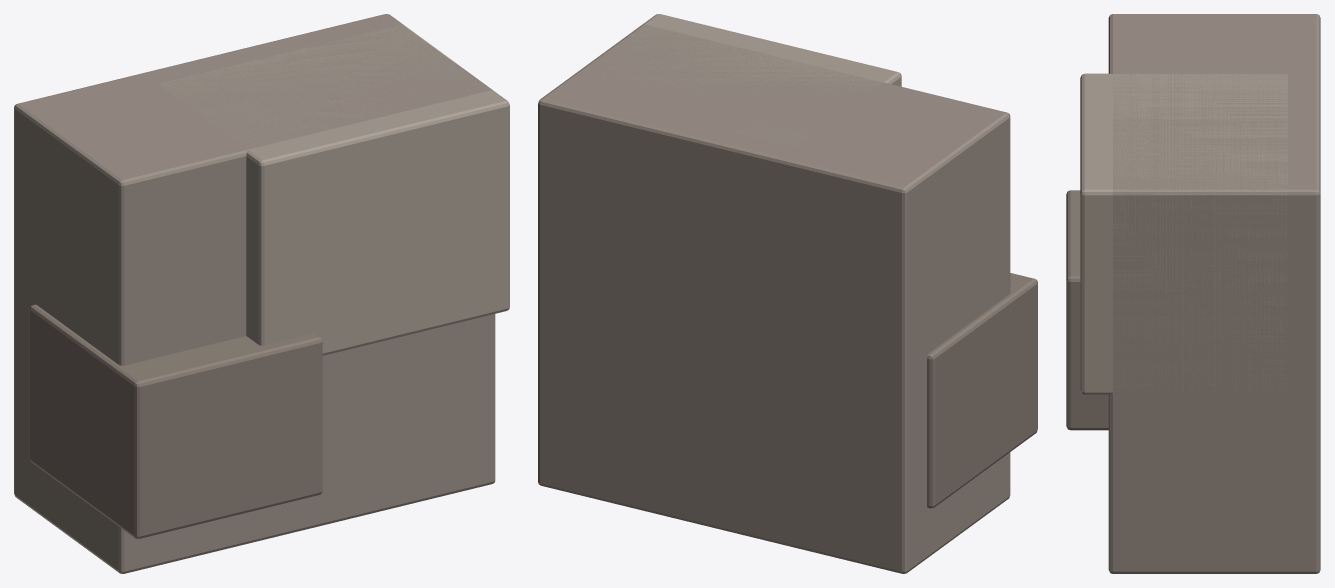
Rendered from RockClimbing_CliffBlock.fbx.
The picture shows the model from 3 angles, left to right: view 1: azimuth 30°, elevation 25°; view 2: azimuth 150°, elevation 25°; view 3: azimuth 270°, elevation 25°; orthographic projection. The views are drawn at different scales.
Parts seen in each view (by area): view 1: CliffBlock; view 2: CliffBlock; view 3: CliffBlock.
Part boxes in pixels (left/top/right/bottom): CliffBlock: left=14, top=14, right=509, bottom=573; CliffBlock: left=538, top=14, right=1037, bottom=573; CliffBlock: left=1066, top=14, right=1320, bottom=573.
Bounding box in the file's own units: 6.1 × 6 × 3.6.
